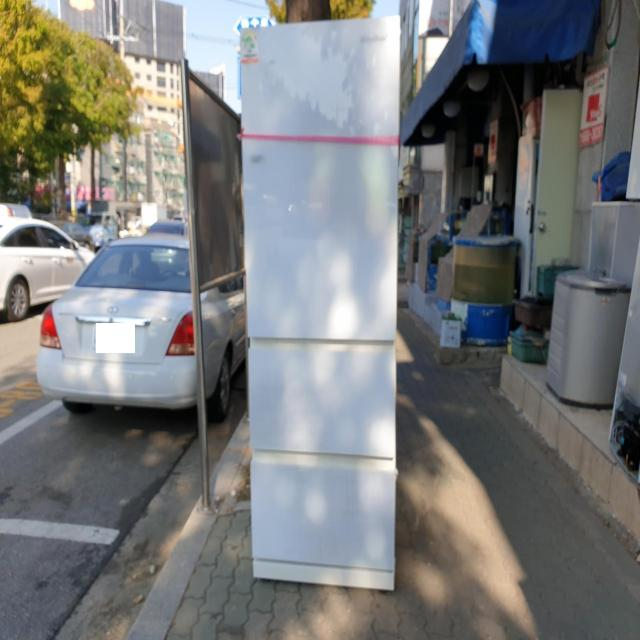refrigerator: (238, 12, 402, 594)
